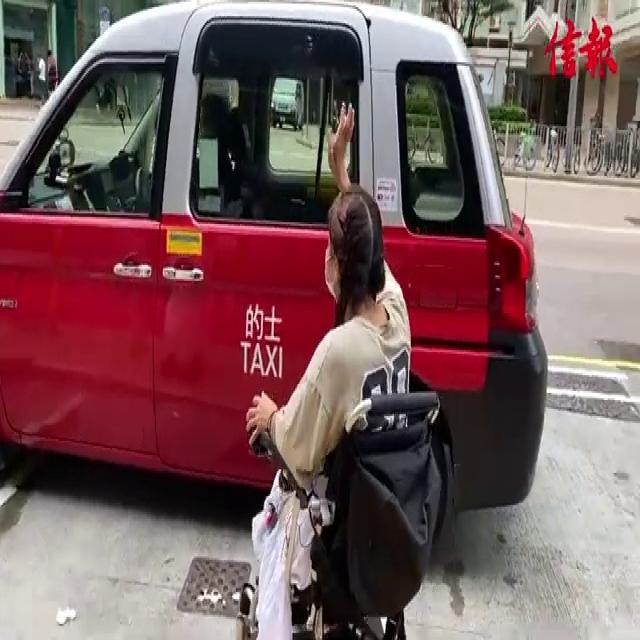wheelchairs: (227, 368, 453, 640)
